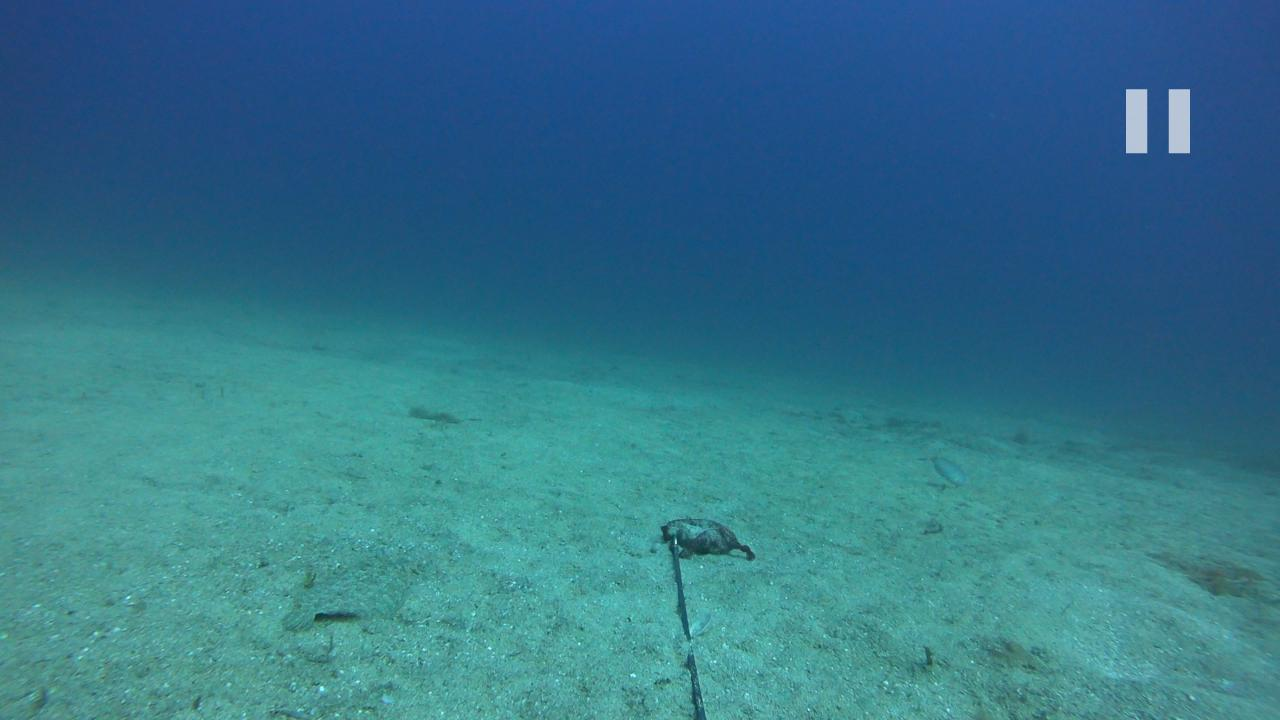bothus: (282, 542, 410, 634)
